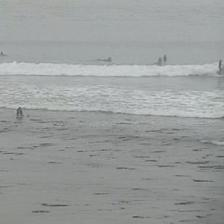surfer: (98, 56, 112, 62), (17, 106, 23, 115), (218, 60, 222, 73), (157, 56, 163, 64), (162, 55, 168, 62), (1, 52, 7, 56)
